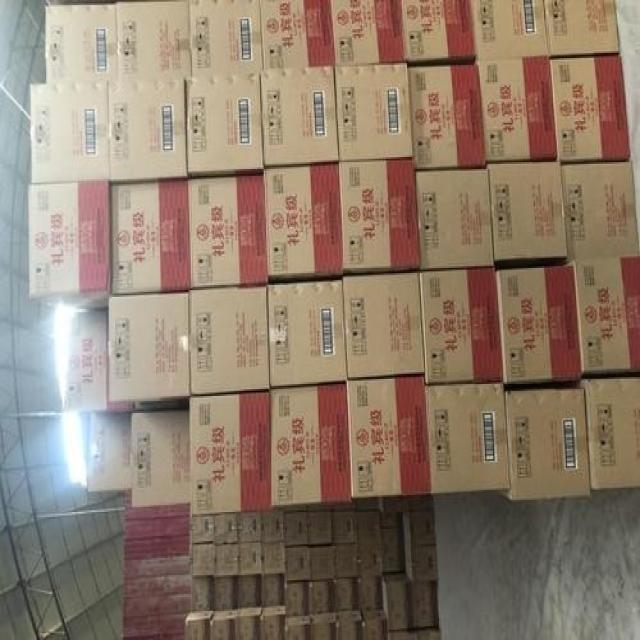box: (496, 262, 585, 390), (30, 179, 111, 313), (188, 387, 272, 513), (502, 388, 591, 500), (349, 374, 431, 495), (419, 267, 504, 382), (271, 382, 352, 502), (339, 157, 421, 274), (265, 163, 344, 282), (187, 173, 268, 289), (424, 379, 510, 488), (108, 290, 191, 402), (110, 178, 190, 294), (189, 285, 270, 393), (269, 278, 349, 386), (552, 52, 630, 162), (184, 71, 263, 179), (478, 55, 558, 161), (489, 162, 569, 267), (414, 167, 495, 269), (108, 77, 188, 180), (410, 65, 488, 169), (30, 80, 110, 180), (573, 254, 639, 375), (346, 275, 425, 375), (262, 65, 339, 165), (561, 159, 638, 259), (61, 312, 135, 412), (336, 63, 412, 159), (129, 410, 191, 508), (45, 3, 118, 84), (585, 377, 638, 486), (189, 1, 263, 77), (117, 1, 190, 78), (259, 2, 335, 67), (402, 1, 478, 66), (329, 1, 405, 64), (471, 1, 548, 60), (543, 1, 621, 56), (86, 416, 130, 493), (379, 571, 408, 629), (404, 542, 441, 583), (406, 581, 439, 626), (401, 507, 437, 545), (379, 527, 405, 572), (189, 573, 217, 612), (310, 543, 337, 579), (286, 545, 312, 582), (310, 576, 336, 613), (214, 574, 240, 610), (208, 607, 238, 638), (357, 570, 382, 607), (354, 539, 380, 574), (260, 572, 286, 607), (232, 606, 260, 638), (358, 608, 387, 638), (283, 512, 309, 545), (191, 541, 216, 575), (215, 542, 240, 576), (332, 609, 361, 638), (239, 540, 263, 575), (237, 573, 261, 608), (286, 580, 310, 615), (260, 603, 284, 638), (336, 574, 359, 610), (331, 510, 356, 543), (213, 511, 239, 542), (356, 509, 380, 542), (185, 611, 214, 638), (239, 509, 262, 543), (308, 610, 335, 638), (262, 539, 284, 573), (308, 511, 331, 543), (190, 513, 214, 543), (402, 490, 436, 511), (379, 495, 401, 527), (284, 611, 310, 638), (263, 510, 283, 542), (337, 540, 354, 576), (414, 624, 441, 638), (387, 626, 417, 638)
